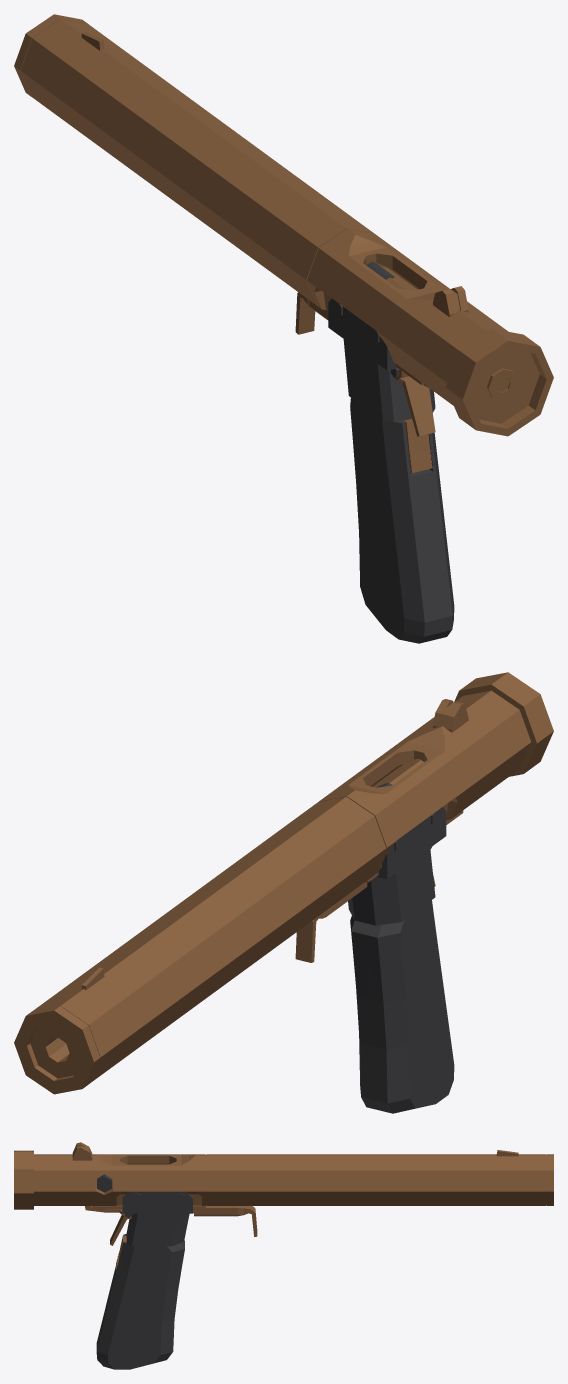
3 renders of one model, top to bottom at view 1: azimuth 30°, elevation 25°; view 2: azimuth 150°, elevation 25°; view 3: azimuth 270°, elevation 25°, orthographic. The views are drawn at different scales.
Visible parts, largest first — view 1: welrod-mk2; view 2: welrod-mk2; view 3: welrod-mk2.
Boxes of the visible parts, x1,y1,x2,y2 form: welrod-mk2: [14, 14, 553, 643]; welrod-mk2: [14, 672, 553, 1113]; welrod-mk2: [14, 1142, 553, 1369].
Size of the model in its own units: 0.036 by 0.1377 by 0.31.
